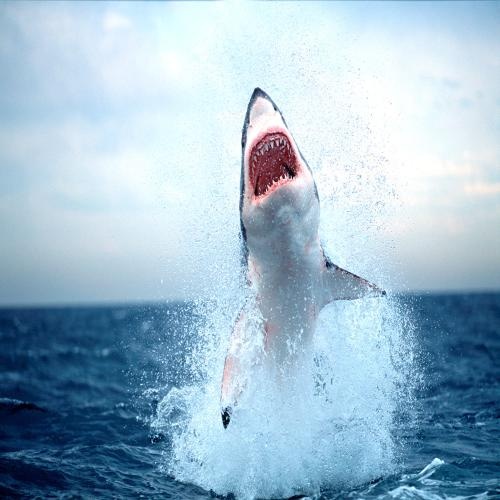shark-endangered: (220, 72, 354, 422)
